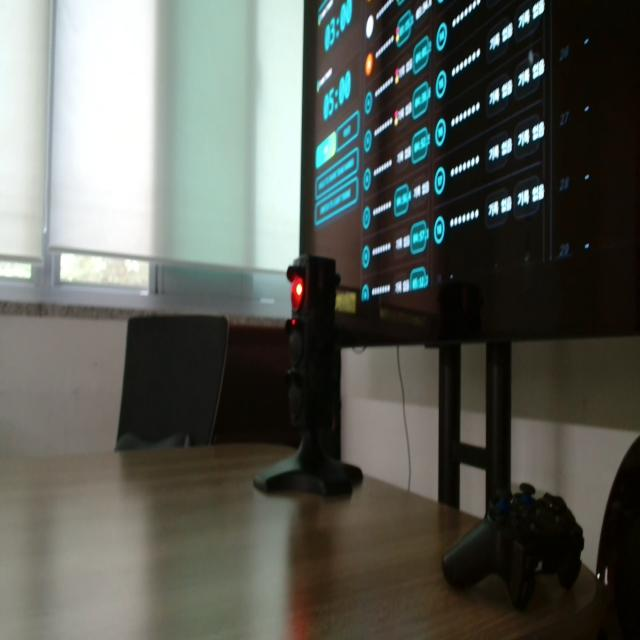red_light: (292, 277, 303, 311)
